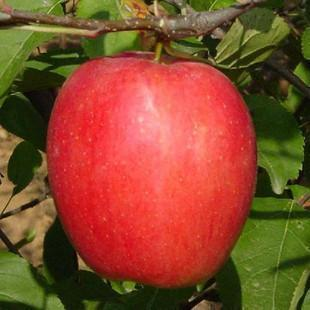apple: (47, 54, 255, 285)
